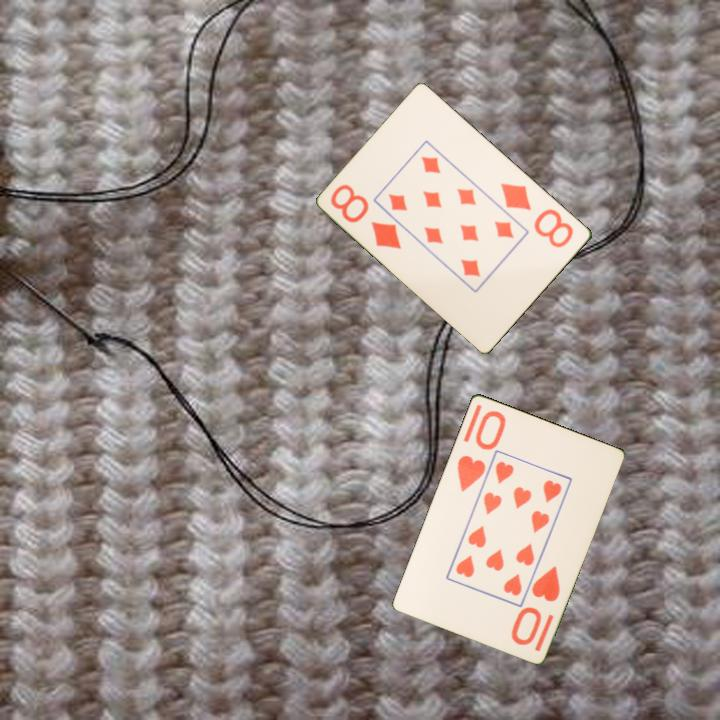10h: (453, 406, 508, 495), (509, 562, 563, 648)
8d: (497, 179, 577, 251), (327, 180, 405, 252)
